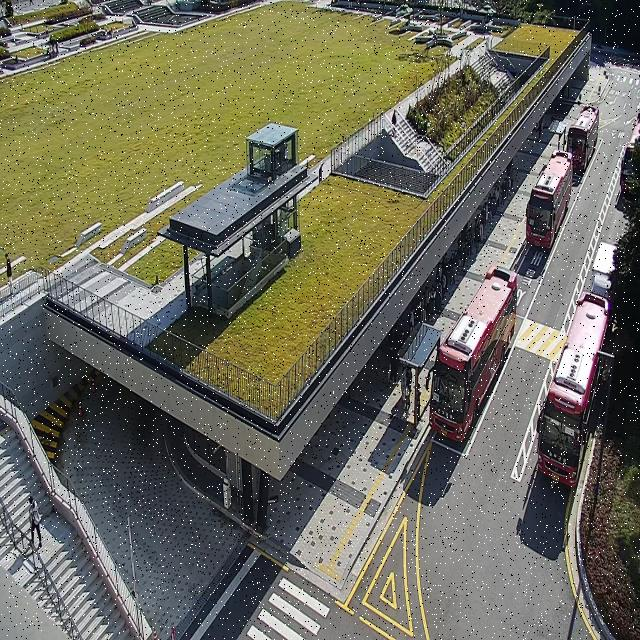queue: (413, 172, 511, 428)
